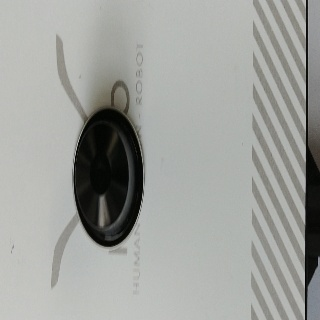capsule_10: (72, 105, 146, 251)
